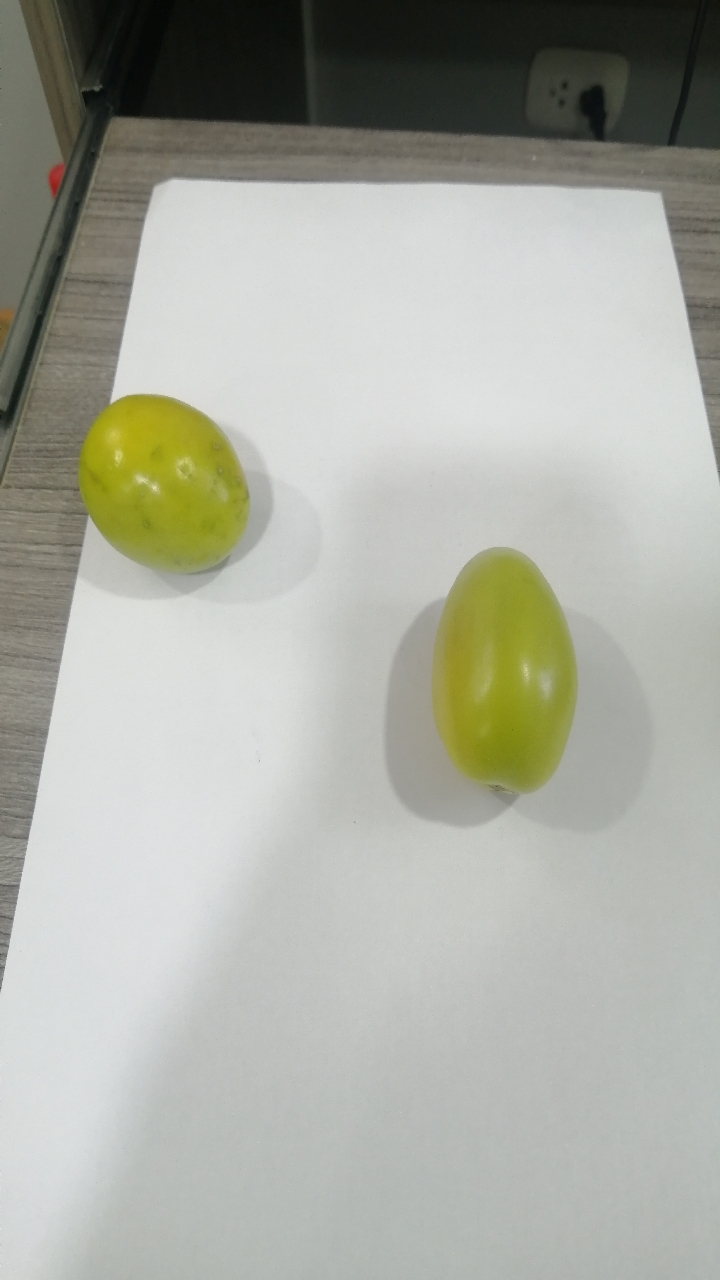tomateVerde: (54, 375, 304, 603), (414, 519, 600, 814)
